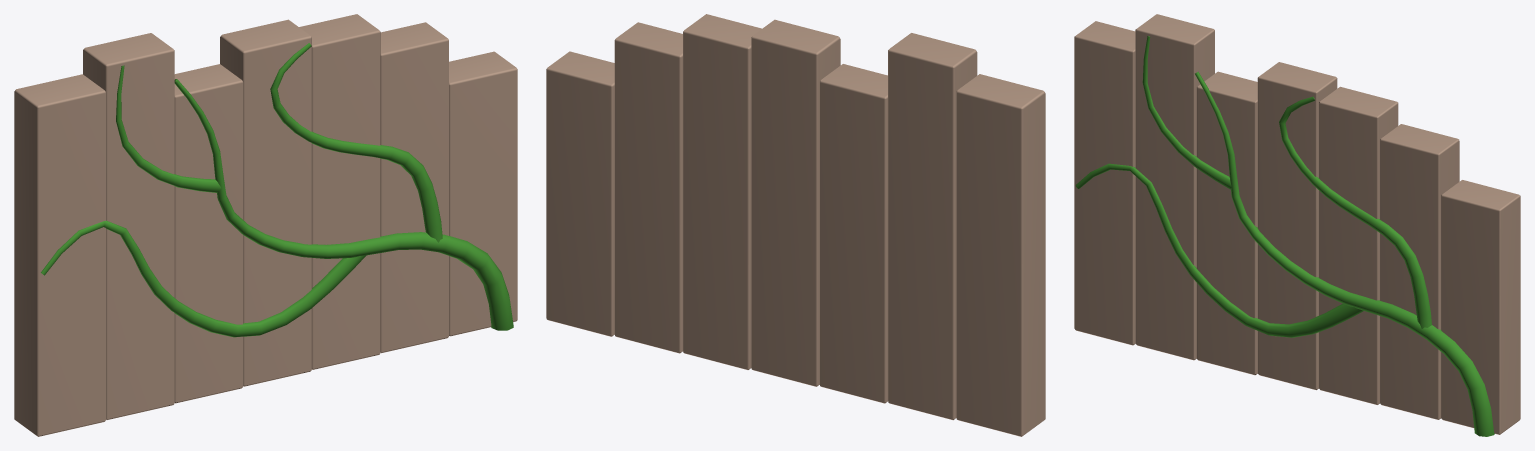
File: Fence_1.glb
3 renders of one model, left to right at view 1: azimuth 30°, elevation 25°; view 2: azimuth 150°, elevation 25°; view 3: azimuth 330°, elevation 25°, orthographic. The views are drawn at different scales.
Visible parts, largest first — view 1: Fence_1; view 2: Fence_1; view 3: Fence_1.
Boxes of the visible parts, bbox=[...] form: Fence_1: bbox=[14, 14, 517, 436]; Fence_1: bbox=[546, 14, 1045, 436]; Fence_1: bbox=[1074, 14, 1520, 436].
Bounding box in the file's own units: 4.56 × 3.23 × 0.5176.
Materials: 1 (1 with a texture image).
